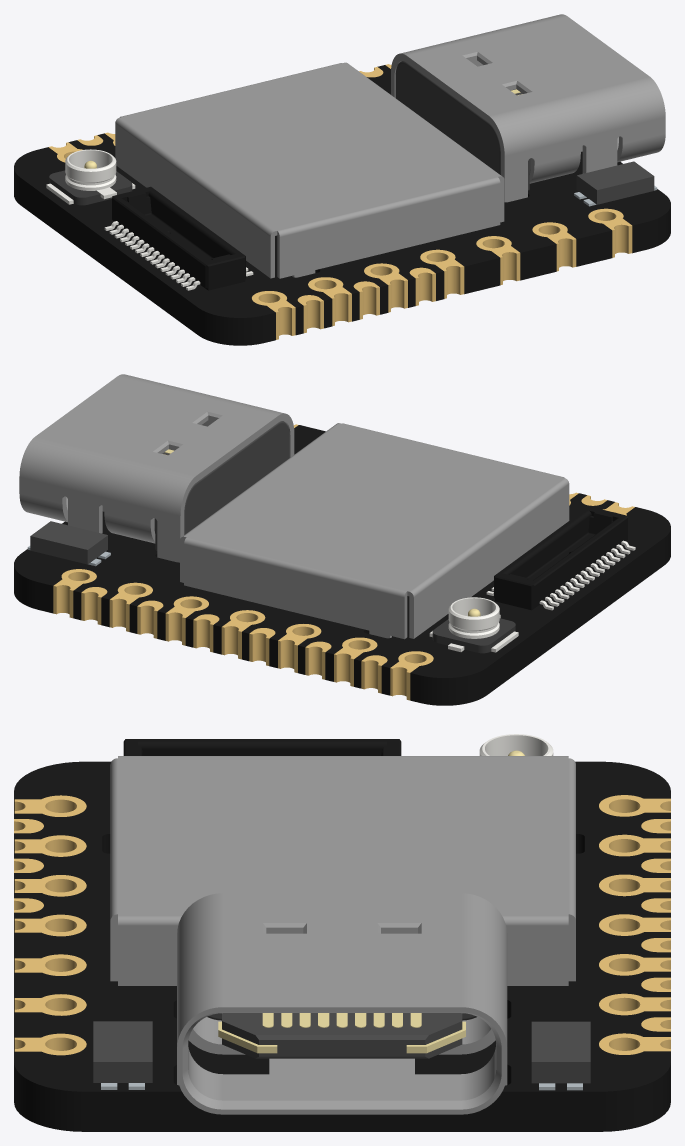
Rendered from seeed_xiao_esp32s3.glb.
3 renders of one model, top to bottom at view 1: azimuth 30°, elevation 25°; view 2: azimuth 150°, elevation 25°; view 3: azimuth 270°, elevation 25°, orthographic. The views are drawn at different scales.
Visible parts, largest first — view 1: Shield:1, =>[0:1:1:35]_4b5dbf, CHAMFER9:1, =>[0:1:1:35]_7eaf3e, DF40C-30DP-0.4V_51_ v1:1, CUT-EXTRUDE5:1, Body:1_1, U.FL-R-SMT-1_10_ v1:1_264d2f, DF40C-30DP-0.4V_51_ v1:1_cf7c8f, U.FL-R-SMT-1_10_ v1:1_090f5f; view 2: Shield:1, =>[0:1:1:35]_4b5dbf, CHAMFER9:1, =>[0:1:1:35]_7eaf3e, DF40C-30DP-0.4V_51_ v1:1, CUT-EXTRUDE5:1, Body:1, U.FL-R-SMT-1_10_ v1:1_264d2f, DF40C-30DP-0.4V_51_ v1:1_cf7c8f, U.FL-R-SMT-1_10_ v1:1_090f5f; view 3: Shield:1, =>[0:1:1:35]_4b5dbf, CHAMFER9:1, =>[0:1:1:35]_7eaf3e, MIRROR2:1_ecaee5, DF40C-30DP-0.4V_51_ v1:1, Body:1, Body:1_1, U.FL-R-SMT-1_10_ v1:1_264d2f, MIRROR2:1_670c39.
Boxes of the visible parts, x1=… form: Shield:1: x1=115, y1=62, x2=504, y2=278; =>[0:1:1:35]_4b5dbf: x1=14, y1=65, x2=670, y2=345; CHAMFER9:1: x1=391, y1=14, x2=665, y2=202; =>[0:1:1:35]_7eaf3e: x1=48, y1=64, x2=632, y2=339; DF40C-30DP-0.4V_51_ v1:1: x1=112, y1=186, x2=245, y2=290; CUT-EXTRUDE5:1: x1=395, y1=61, x2=530, y2=190; Body:1_1: x1=576, y1=161, x2=654, y2=204; U.FL-R-SMT-1_10_ v1:1_264d2f: x1=46, y1=149, x2=135, y2=204; DF40C-30DP-0.4V_51_ v1:1_cf7c8f: x1=104, y1=221, x2=253, y2=290; U.FL-R-SMT-1_10_ v1:1_090f5f: x1=49, y1=170, x2=132, y2=205; Shield:1: x1=180, y1=423, x2=569, y2=639; =>[0:1:1:35]_4b5dbf: x1=14, y1=425, x2=670, y2=705; CHAMFER9:1: x1=19, y1=374, x2=294, y2=562; =>[0:1:1:35]_7eaf3e: x1=53, y1=424, x2=634, y2=700; DF40C-30DP-0.4V_51_ v1:1: x1=494, y1=506, x2=627, y2=610; CUT-EXTRUDE5:1: x1=154, y1=421, x2=289, y2=550; Body:1: x1=30, y1=521, x2=107, y2=564; U.FL-R-SMT-1_10_ v1:1_264d2f: x1=429, y1=597, x2=518, y2=652; DF40C-30DP-0.4V_51_ v1:1_cf7c8f: x1=486, y1=540, x2=635, y2=610; U.FL-R-SMT-1_10_ v1:1_090f5f: x1=432, y1=618, x2=515, y2=653; Shield:1: x1=110, y1=756, x2=575, y2=985; =>[0:1:1:35]_4b5dbf: x1=14, y1=761, x2=670, y2=1131; CHAMFER9:1: x1=177, y1=893, x2=507, y2=1114; =>[0:1:1:35]_7eaf3e: x1=14, y1=795, x2=670, y2=1055; MIRROR2:1_ecaee5: x1=222, y1=1013, x2=462, y2=1058; DF40C-30DP-0.4V_51_ v1:1: x1=123, y1=739, x2=401, y2=755; Body:1: x1=531, y1=1021, x2=590, y2=1083; Body:1_1: x1=93, y1=1021, x2=152, y2=1082; U.FL-R-SMT-1_10_ v1:1_264d2f: x1=479, y1=734, x2=553, y2=755; MIRROR2:1_670c39: x1=218, y1=1021, x2=465, y2=1053.
Size of the model in its own units: 0.0226 by 0.00442 by 0.0178.
